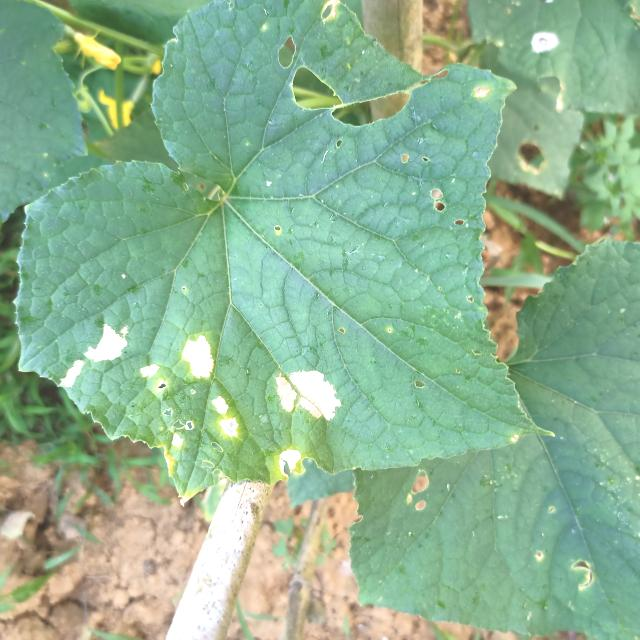disease_cucumber: (138, 331, 244, 449), (55, 314, 134, 390), (262, 359, 346, 429), (266, 440, 308, 480)
